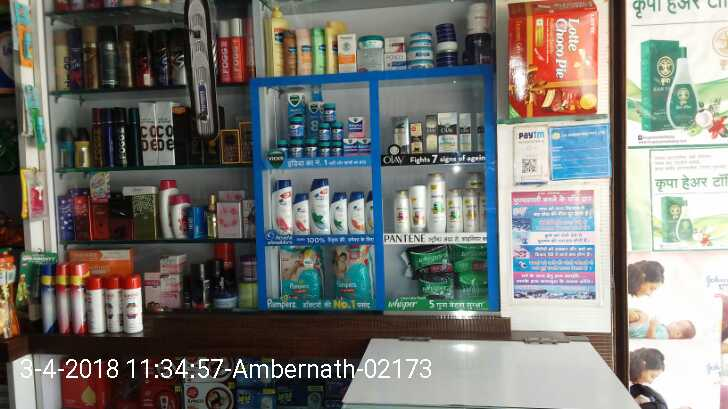vicks: (274, 85, 342, 158), (342, 114, 371, 152)
